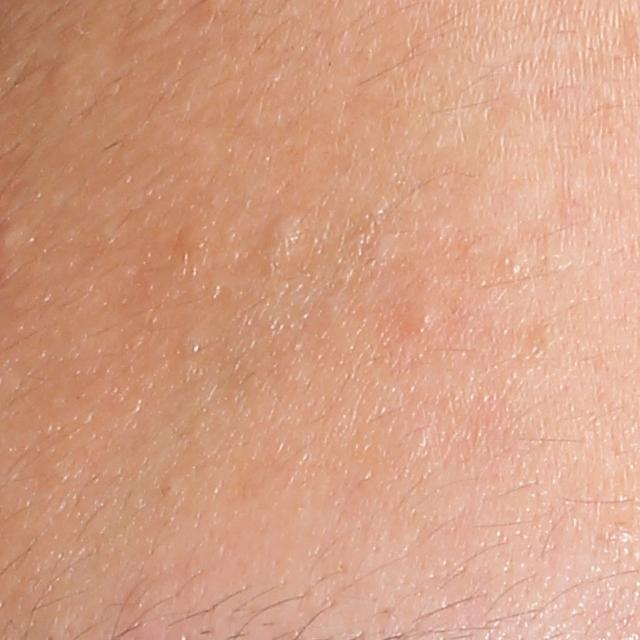comedo: (268, 210, 301, 247)
